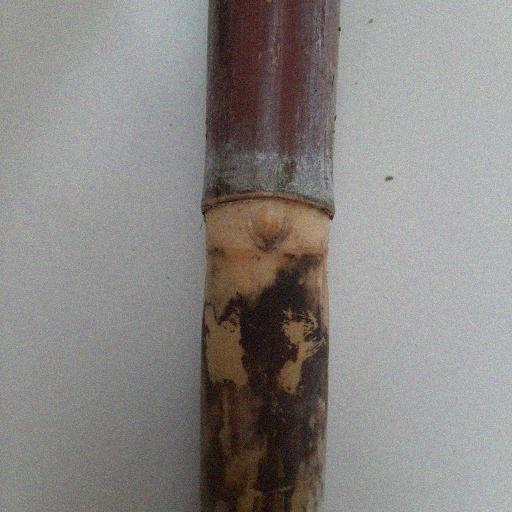Bud: (247, 201, 291, 252)
